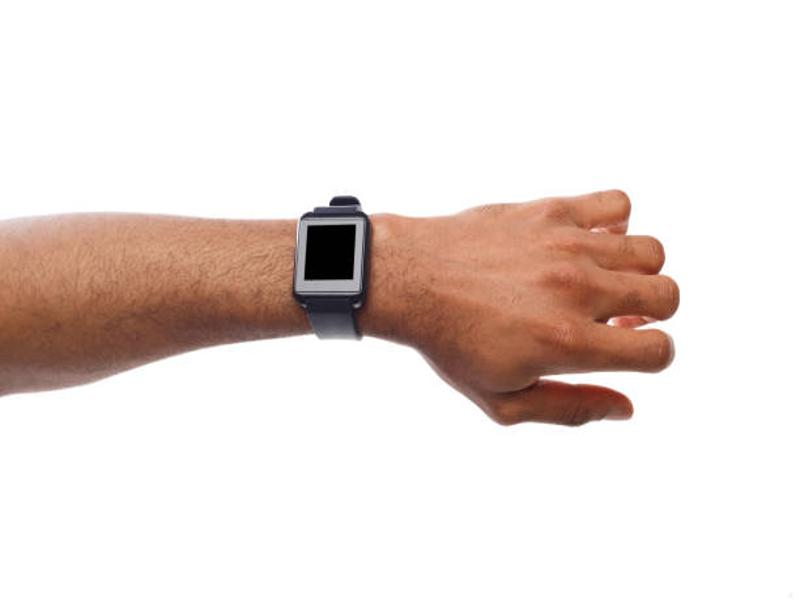watch: (292, 193, 373, 345)
